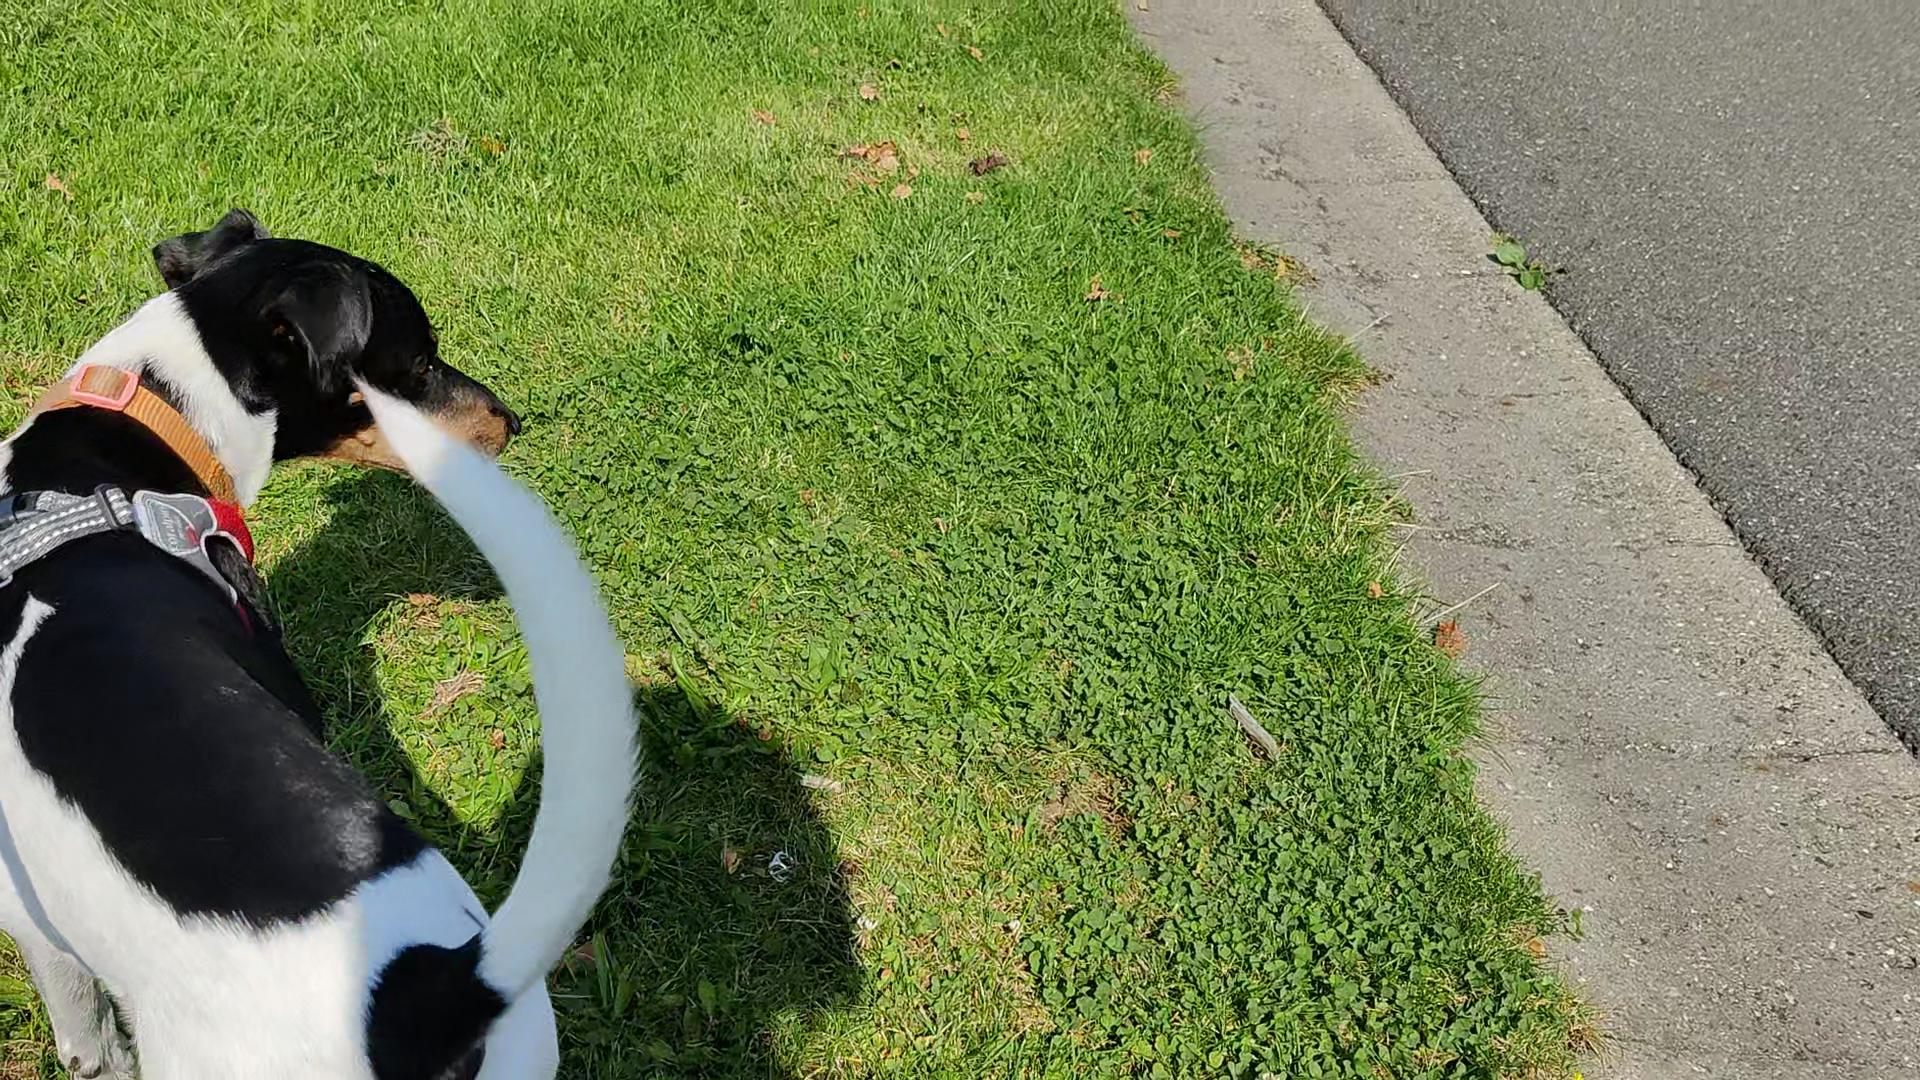Dog: (0, 196, 650, 1079)
